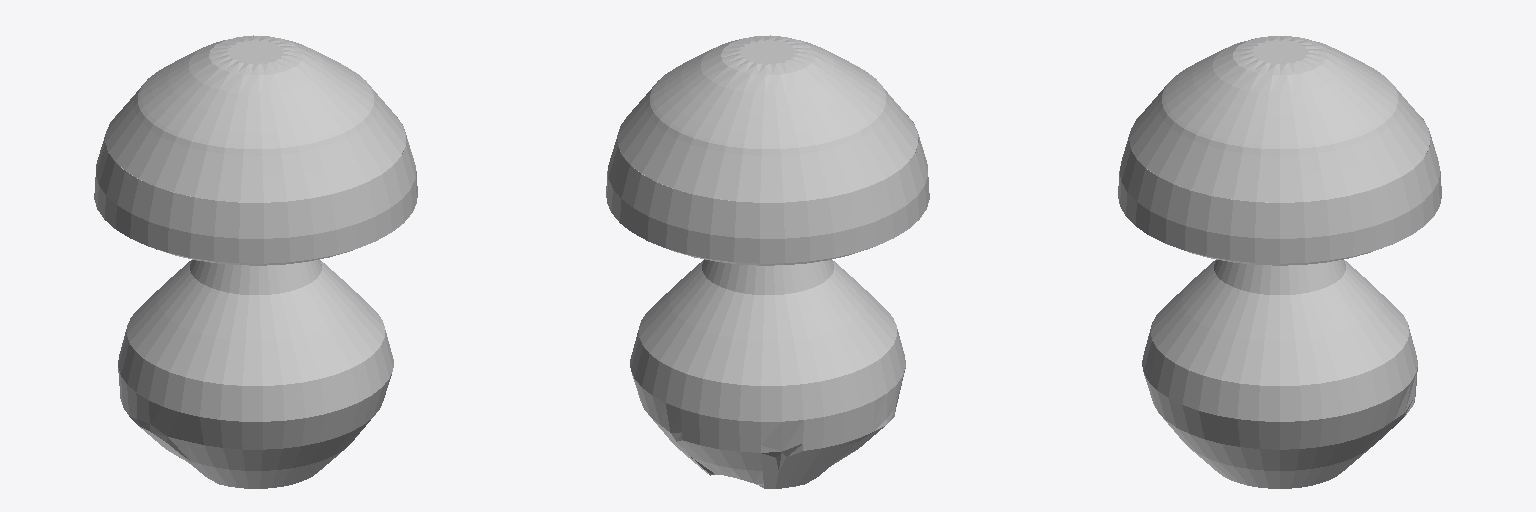
File: TextureLampRemodel.obj
3 renders of one model, left to right at view 1: azimuth 30°, elevation 25°; view 2: azimuth 150°, elevation 25°; view 3: azimuth 270°, elevation 25°, orthographic.
Visible parts, largest first — view 1: lampBase; view 2: lampBase; view 3: lampBase.
Boxes of the visible parts, x1=… form: lampBase: x1=94, y1=35, x2=417, y2=488; lampBase: x1=606, y1=35, x2=929, y2=488; lampBase: x1=1118, y1=36, x2=1441, y2=488.
Size of the model in its own units: 8.52 by 11.83 by 8.52.